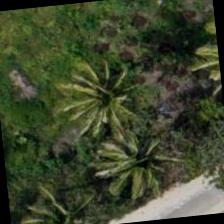Kelapa_Sawit: (54, 42, 152, 142), (92, 110, 191, 208), (10, 170, 107, 223)
